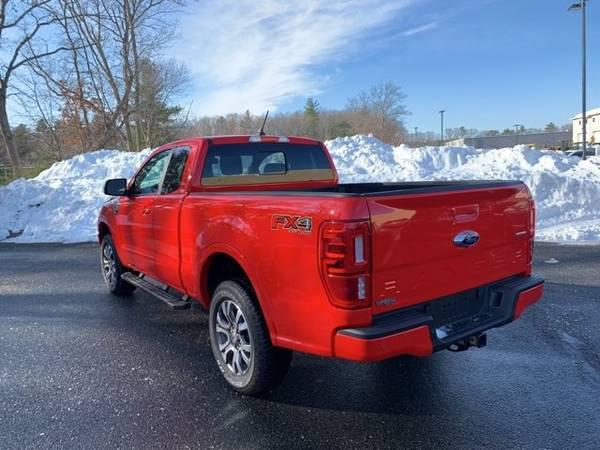Front_Left_Door: (113, 196, 154, 277)
Front_Left_Window: (120, 144, 174, 198)
Left_Taillight: (317, 219, 370, 306)
Rear_Bumper: (333, 275, 546, 361)
Rear_Fender: (179, 190, 371, 354)
Rear_Left_Door: (152, 191, 186, 293)
Rear_Left_Window: (158, 141, 202, 195)
Rear_Windshield: (190, 136, 340, 196)
Tailgate: (365, 182, 534, 320)
Wheel: (204, 277, 289, 390), (100, 236, 144, 296)
